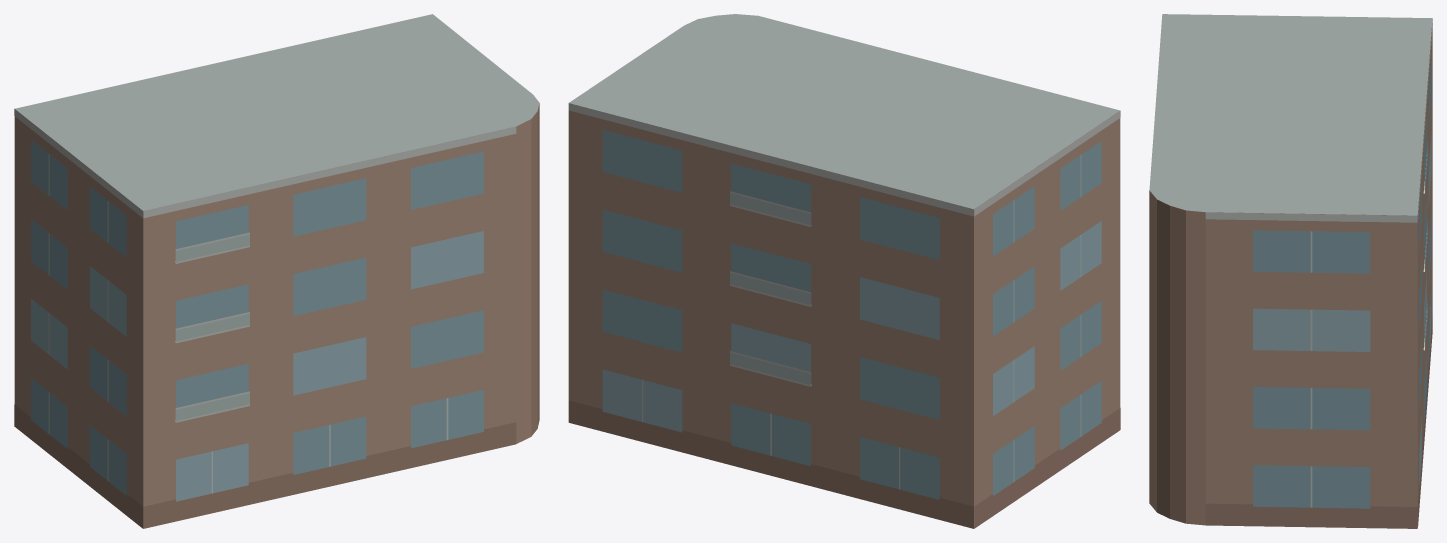
The model's file is survey-upis-32659762.glb.
3 views of the same model, side by side, from view 1: azimuth 30°, elevation 25°; view 2: azimuth 150°, elevation 25°; view 3: azimuth 270°, elevation 25° (orthographic). The views are drawn at different scales.
Visible parts, largest first — view 1: survey-upis-32659762.tmp; view 2: survey-upis-32659762.tmp; view 3: survey-upis-32659762.tmp.
Boxes of the visible parts, x1=… form: survey-upis-32659762.tmp: x1=14, y1=14, x2=539, y2=528; survey-upis-32659762.tmp: x1=568, y1=14, x2=1120, y2=528; survey-upis-32659762.tmp: x1=1149, y1=14, x2=1432, y2=528.
Size of the model in its own units: 14.78 by 10.7 by 8.78.
